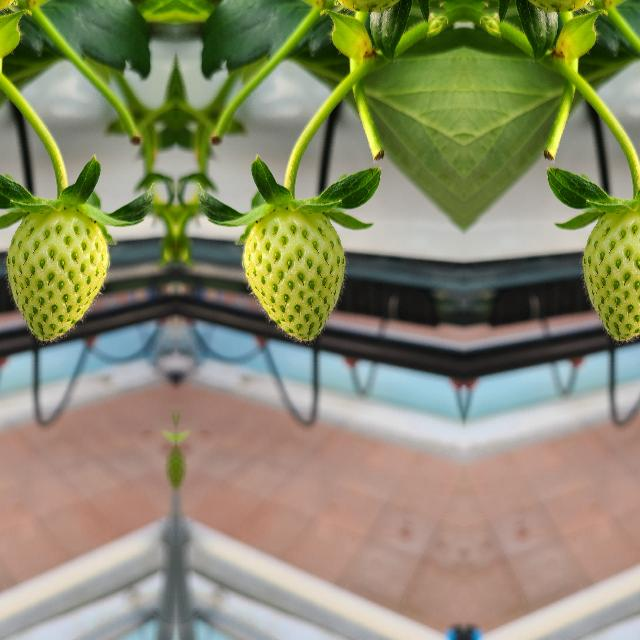Health_25: (242, 210, 344, 340), (7, 210, 108, 340), (582, 210, 640, 339)
